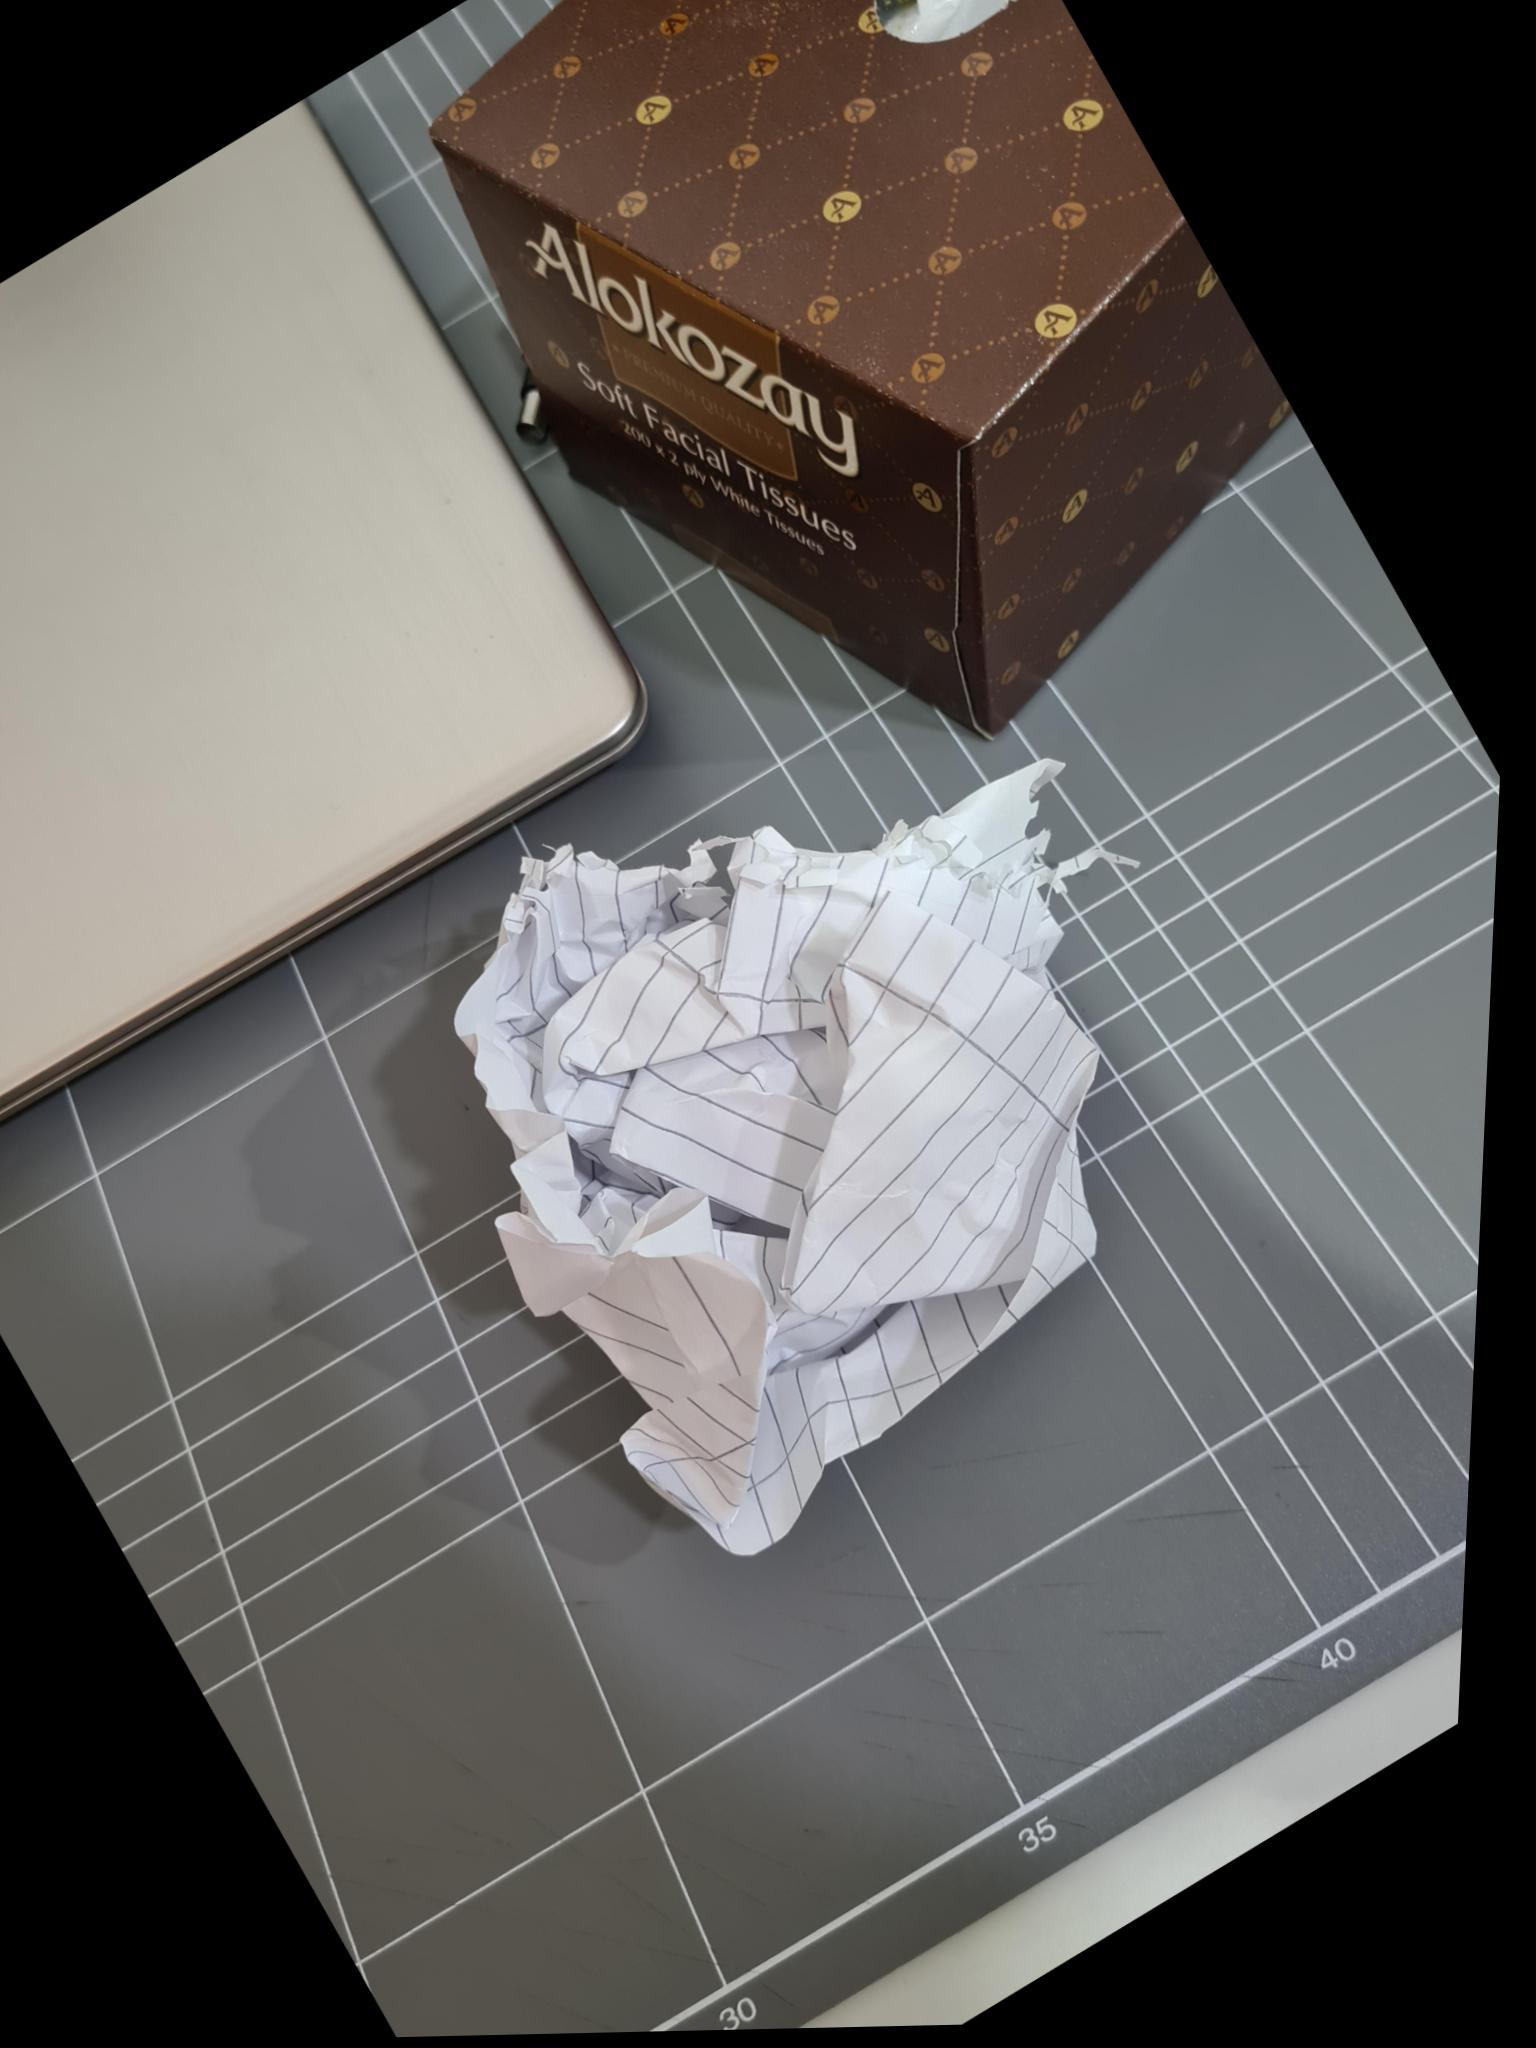paper: (457, 760, 1102, 1555)
